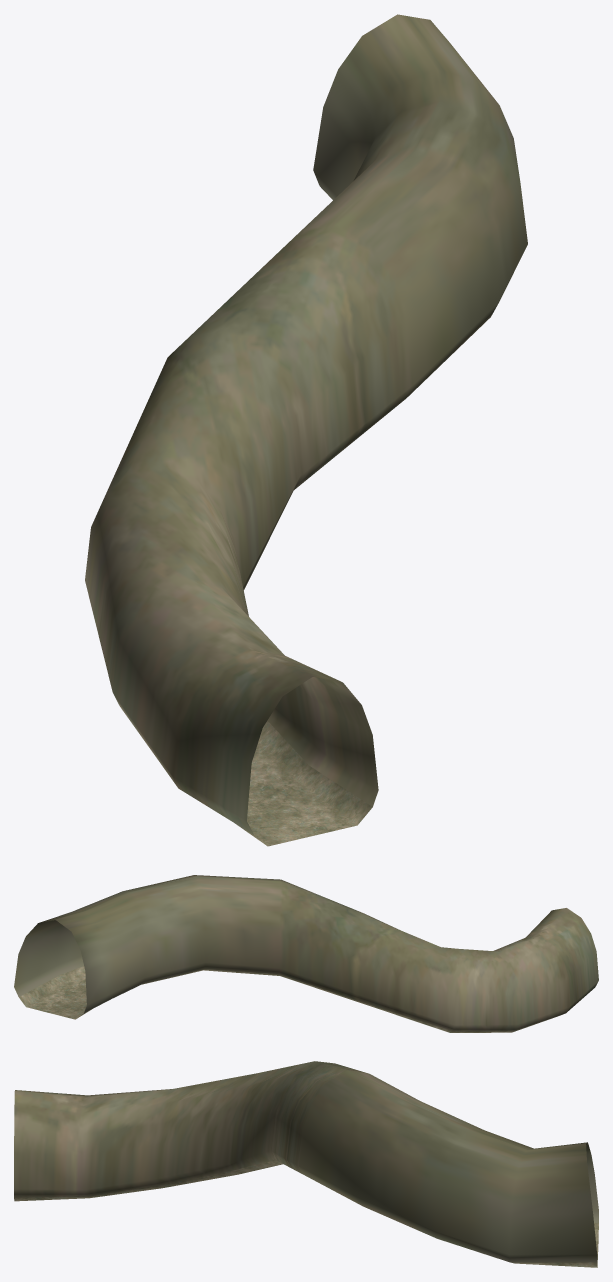
Rendered from OVERHILL_A_01_CM_TUNNEL_09.fbx.
3 views of the same model, one above another, from view 1: azimuth 30°, elevation 25°; view 2: azimuth 150°, elevation 25°; view 3: azimuth 270°, elevation 25° (orthographic). The views are drawn at different scales.
Parts seen in each view (by area): view 1: OVERHILL_A_01_CM_TUNNEL_09; view 2: OVERHILL_A_01_CM_TUNNEL_09; view 3: OVERHILL_A_01_CM_TUNNEL_09.
Boxes of the visible parts, x1,y1,x2,y2 form: OVERHILL_A_01_CM_TUNNEL_09: (85, 14, 527, 846); OVERHILL_A_01_CM_TUNNEL_09: (14, 875, 598, 1032); OVERHILL_A_01_CM_TUNNEL_09: (14, 1061, 598, 1267).
Bounding box in the file's own units: 151539 × 72531 × 180099.
Materials: 1 (1 with a texture image).
